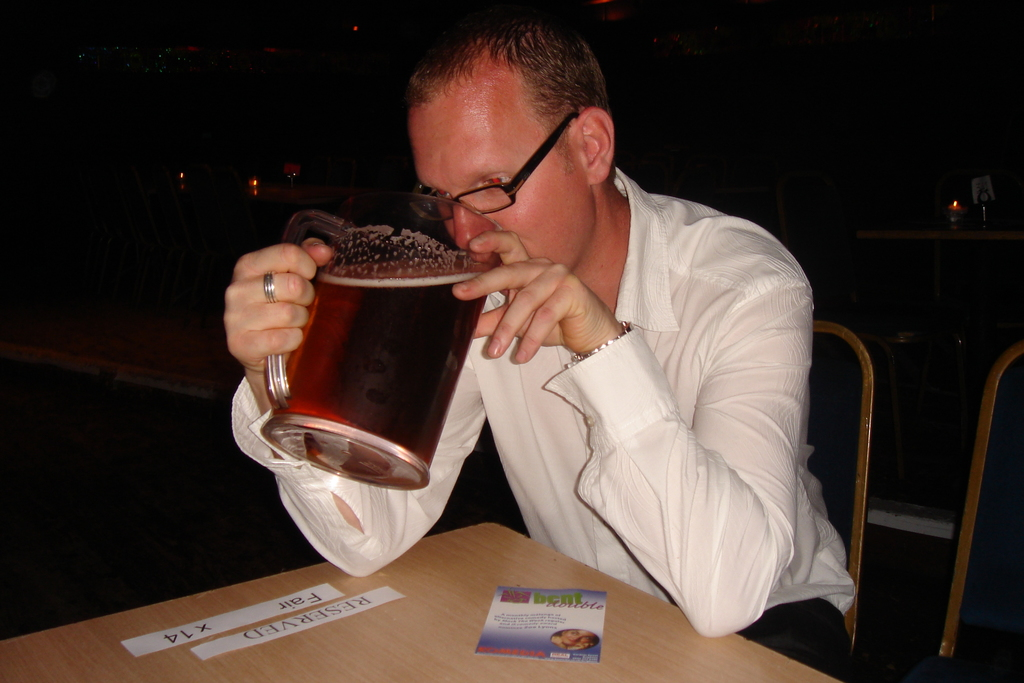Beer: (261, 190, 501, 490)
